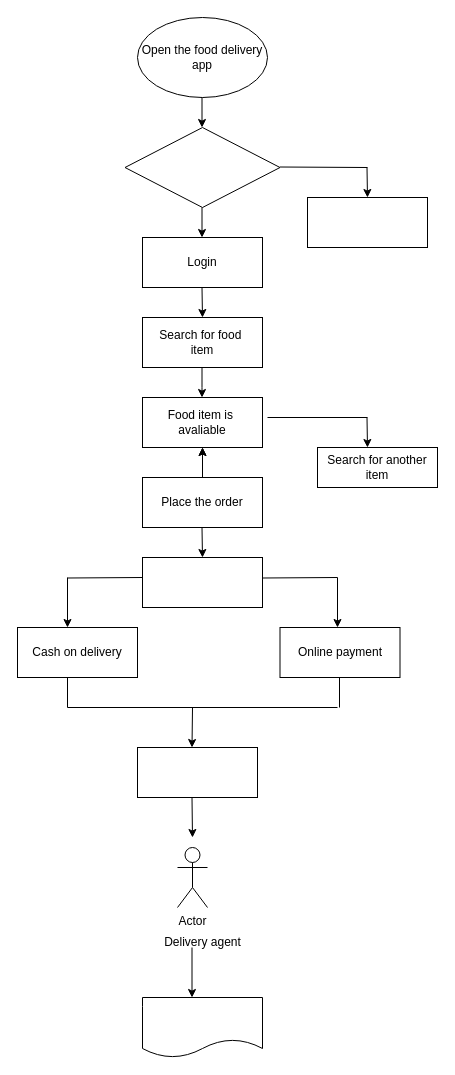
The diagram is 455 pixels wide and 1075 high, and some of its shapes have lost their labels. Each missing label, with the centre of its shape:
"Feedback" goes at point 202,1027.
"Give the address" goes at point 197,772.
"Login if account is there otherwise register" goes at point 202,167.
"Payment option" goes at point 202,582.
"Register" goes at point 367,222.
